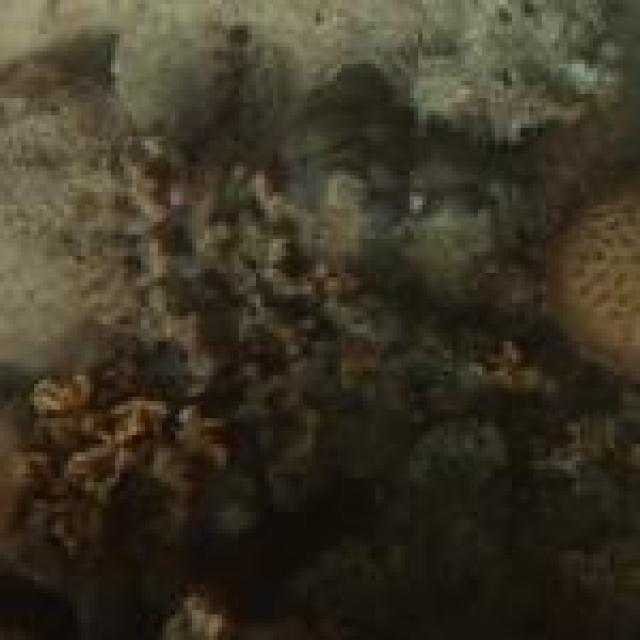Healthy Coral: (546, 184, 640, 381)
